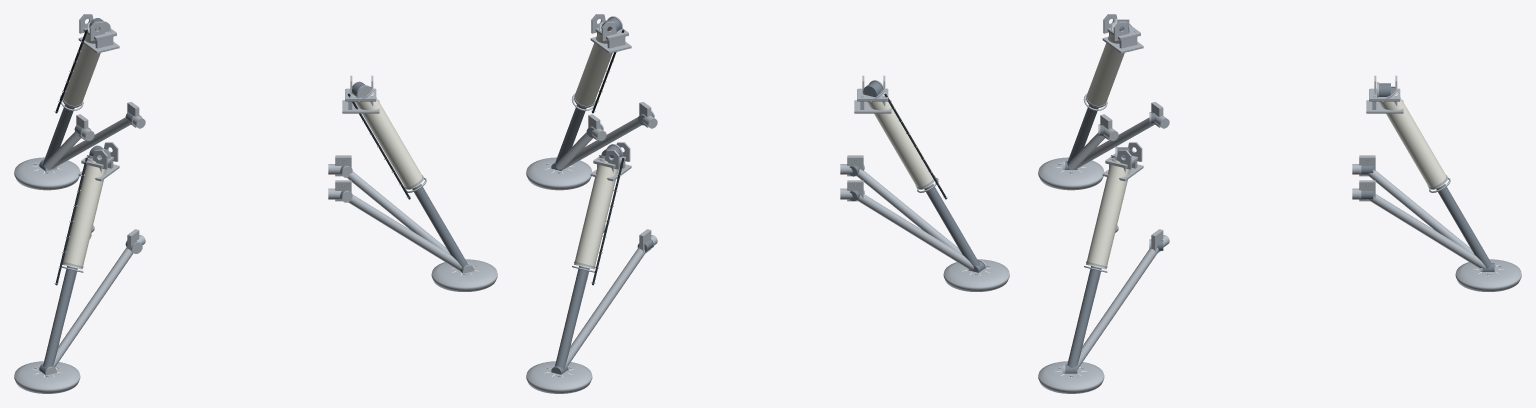
Rendered from viking-legs.glb.
3 views of the same model, side by side, from view 1: azimuth 30°, elevation 25°; view 2: azimuth 150°, elevation 25°; view 3: azimuth 270°, elevation 25° (orthographic).
Visible parts, largest first — view 1: LEG_1_A_FRAME_Machined_aluminium, STRUT_FIXED_SHELL_2_Viking_white_thermal_enamel, LEG_2_FOOTPAD_Machined_aluminium, LEG_1_FOOTPAD_Machined_aluminium, LEG_0_FOOTPAD_Machined_aluminium, STRUT_FIXED_SHELL_1_Viking_white_thermal_enamel, LEG_2_A_FRAME_Machined_aluminium, LEG_0_A_FRAME_Machined_aluminium, STRUT_AXIS_2_Steel_fixings, STRUT_FIXED_SHELL_0_Viking_white_thermal_enamel, STRUT_AXIS_1_Steel_fixings, LEG_0_TOP_CLEVIS_Machined_aluminium (+5 smaller); view 2: LEG_2_A_FRAME_Machined_aluminium, LEG_0_FOOTPAD_Machined_aluminium, STRUT_FIXED_SHELL_0_Viking_white_thermal_enamel, LEG_1_FOOTPAD_Machined_aluminium, STRUT_FIXED_SHELL_2_Viking_white_thermal_enamel, LEG_2_FOOTPAD_Machined_aluminium, LEG_0_A_FRAME_Machined_aluminium, STRUT_AXIS_0_Steel_fixings, LEG_1_A_FRAME_Machined_aluminium, STRUT_AXIS_2_Steel_fixings, LEG_1_TOP_CLEVIS_Machined_aluminium, STRUT_FIXED_SHELL_1_Viking_white_thermal_enamel (+5 smaller); view 3: LEG_0_A_FRAME_Machined_aluminium, STRUT_REMOVABLE_SHELL_1_Viking_white_thermal_enamel, STRUT_REMOVABLE_SHELL_0_Viking_white_thermal_enamel, LEG_1_FOOTPAD_Machined_aluminium, LEG_0_FOOTPAD_Machined_aluminium, LEG_2_FOOTPAD_Machined_aluminium, LEG_1_A_FRAME_Machined_aluminium, STRUT_REMOVABLE_SHELL_2_Viking_white_thermal_enamel, LEG_2_A_FRAME_Machined_aluminium, STRUT_AXIS_1_Steel_fixings, STRUT_AXIS_0_Steel_fixings, LEG_2_TOP_CLEVIS_Machined_aluminium (+3 smaller).
Part boxes in pixels (box(x1,y1,x2,y2)): LEG_1_A_FRAME_Machined_aluminium: box(347, 171, 461, 270); STRUT_FIXED_SHELL_2_Viking_white_thermal_enamel: box(62, 159, 100, 268); LEG_2_FOOTPAD_Machined_aluminium: box(14, 361, 80, 393); LEG_1_FOOTPAD_Machined_aluminium: box(431, 259, 497, 291); LEG_0_FOOTPAD_Machined_aluminium: box(14, 157, 80, 190); STRUT_FIXED_SHELL_1_Viking_white_thermal_enamel: box(355, 101, 418, 189); LEG_2_A_FRAME_Machined_aluminium: box(53, 246, 133, 367); LEG_0_A_FRAME_Machined_aluminium: box(44, 117, 130, 169); STRUT_AXIS_2_Steel_fixings: box(43, 266, 76, 367); STRUT_FIXED_SHELL_0_Viking_white_thermal_enamel: box(62, 34, 96, 107); STRUT_AXIS_1_Steel_fixings: box(412, 184, 467, 267); LEG_0_TOP_CLEVIS_Machined_aluminium: box(78, 14, 119, 53); LEG_2_A_FRAME_Machined_aluminium: box(856, 169, 973, 270); LEG_0_FOOTPAD_Machined_aluminium: box(526, 361, 592, 393); STRUT_FIXED_SHELL_0_Viking_white_thermal_enamel: box(579, 160, 618, 269); LEG_1_FOOTPAD_Machined_aluminium: box(526, 157, 592, 190); STRUT_FIXED_SHELL_2_Viking_white_thermal_enamel: box(871, 92, 934, 189); LEG_2_FOOTPAD_Machined_aluminium: box(943, 259, 1009, 291); LEG_0_A_FRAME_Machined_aluminium: box(565, 247, 646, 368); STRUT_AXIS_0_Steel_fixings: box(555, 266, 589, 368); LEG_1_A_FRAME_Machined_aluminium: box(556, 117, 641, 169); STRUT_AXIS_2_Steel_fixings: box(924, 184, 979, 265); LEG_1_TOP_CLEVIS_Machined_aluminium: box(590, 14, 631, 53); STRUT_FIXED_SHELL_1_Viking_white_thermal_enamel: box(578, 40, 612, 107); LEG_0_A_FRAME_Machined_aluminium: box(1367, 170, 1485, 268); STRUT_REMOVABLE_SHELL_1_Viking_white_thermal_enamel: box(1086, 159, 1130, 269); STRUT_REMOVABLE_SHELL_0_Viking_white_thermal_enamel: box(1379, 92, 1447, 189); LEG_1_FOOTPAD_Machined_aluminium: box(1038, 361, 1104, 393); LEG_0_FOOTPAD_Machined_aluminium: box(1455, 259, 1521, 291); LEG_2_FOOTPAD_Machined_aluminium: box(1038, 157, 1104, 190); LEG_1_A_FRAME_Machined_aluminium: box(1077, 248, 1159, 369); STRUT_REMOVABLE_SHELL_2_Viking_white_thermal_enamel: box(1086, 33, 1124, 107); LEG_2_A_FRAME_Machined_aluminium: box(1068, 118, 1154, 170); STRUT_AXIS_1_Steel_fixings: box(1067, 266, 1101, 367); STRUT_AXIS_0_Steel_fixings: box(1436, 184, 1491, 268); LEG_2_TOP_CLEVIS_Machined_aluminium: box(1102, 14, 1143, 53).
Bounding box in the file's own units: 2.51 × 1.02 × 2.22.
